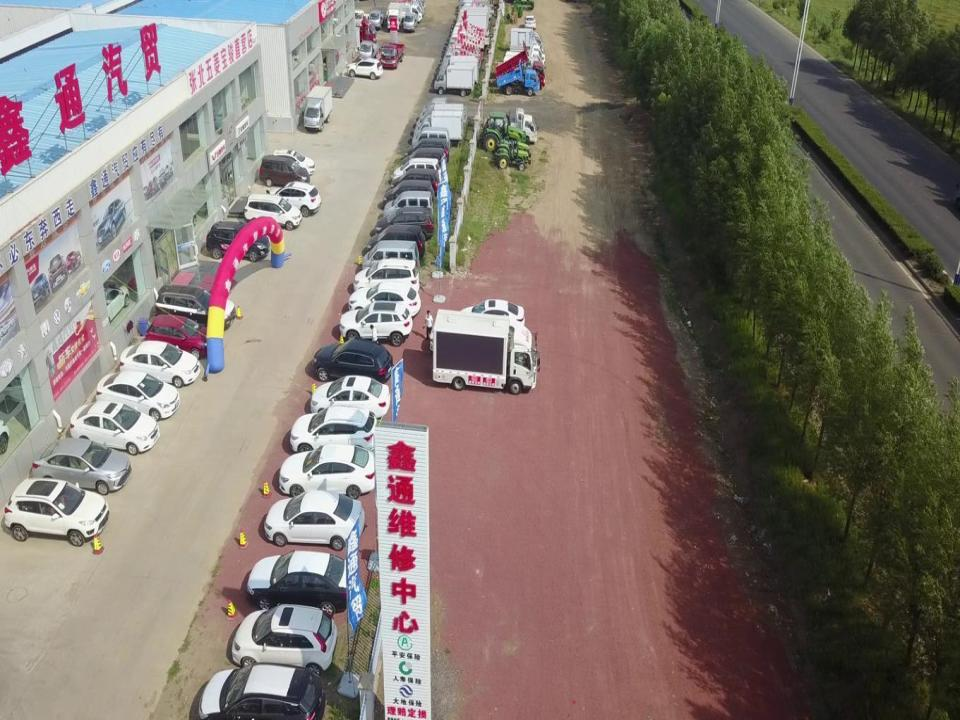car: (247, 548, 349, 616), (264, 490, 365, 550), (30, 437, 132, 494), (278, 443, 376, 498), (68, 399, 161, 455), (289, 404, 379, 456), (96, 371, 181, 422), (118, 338, 200, 389), (310, 374, 390, 422), (146, 312, 215, 360), (347, 279, 421, 322), (495, 43, 545, 90), (244, 192, 303, 231), (458, 300, 525, 332), (270, 180, 321, 217), (86, 285, 130, 324), (274, 148, 316, 176), (352, 8, 369, 28), (524, 14, 536, 29)
truck: (433, 308, 538, 396), (484, 109, 526, 153), (497, 59, 541, 95), (304, 84, 333, 134), (415, 116, 465, 144), (493, 112, 538, 142), (434, 67, 474, 96), (496, 138, 530, 172), (488, 104, 528, 131), (340, 17, 377, 45), (509, 27, 543, 52), (381, 40, 405, 70), (394, 4, 422, 23), (359, 40, 380, 60), (387, 2, 400, 31), (369, 9, 386, 30), (403, 11, 418, 32)
van: (231, 603, 338, 676), (198, 662, 326, 720), (4, 476, 110, 545), (311, 338, 394, 387), (154, 285, 236, 332), (339, 300, 412, 346), (207, 220, 270, 262), (353, 259, 421, 295), (366, 226, 426, 260), (376, 206, 434, 241), (363, 241, 421, 272), (258, 154, 310, 187), (389, 168, 440, 196), (391, 158, 441, 185), (384, 191, 434, 217), (383, 180, 434, 203), (403, 139, 450, 162), (400, 148, 446, 168), (347, 57, 383, 80), (412, 128, 451, 149)
